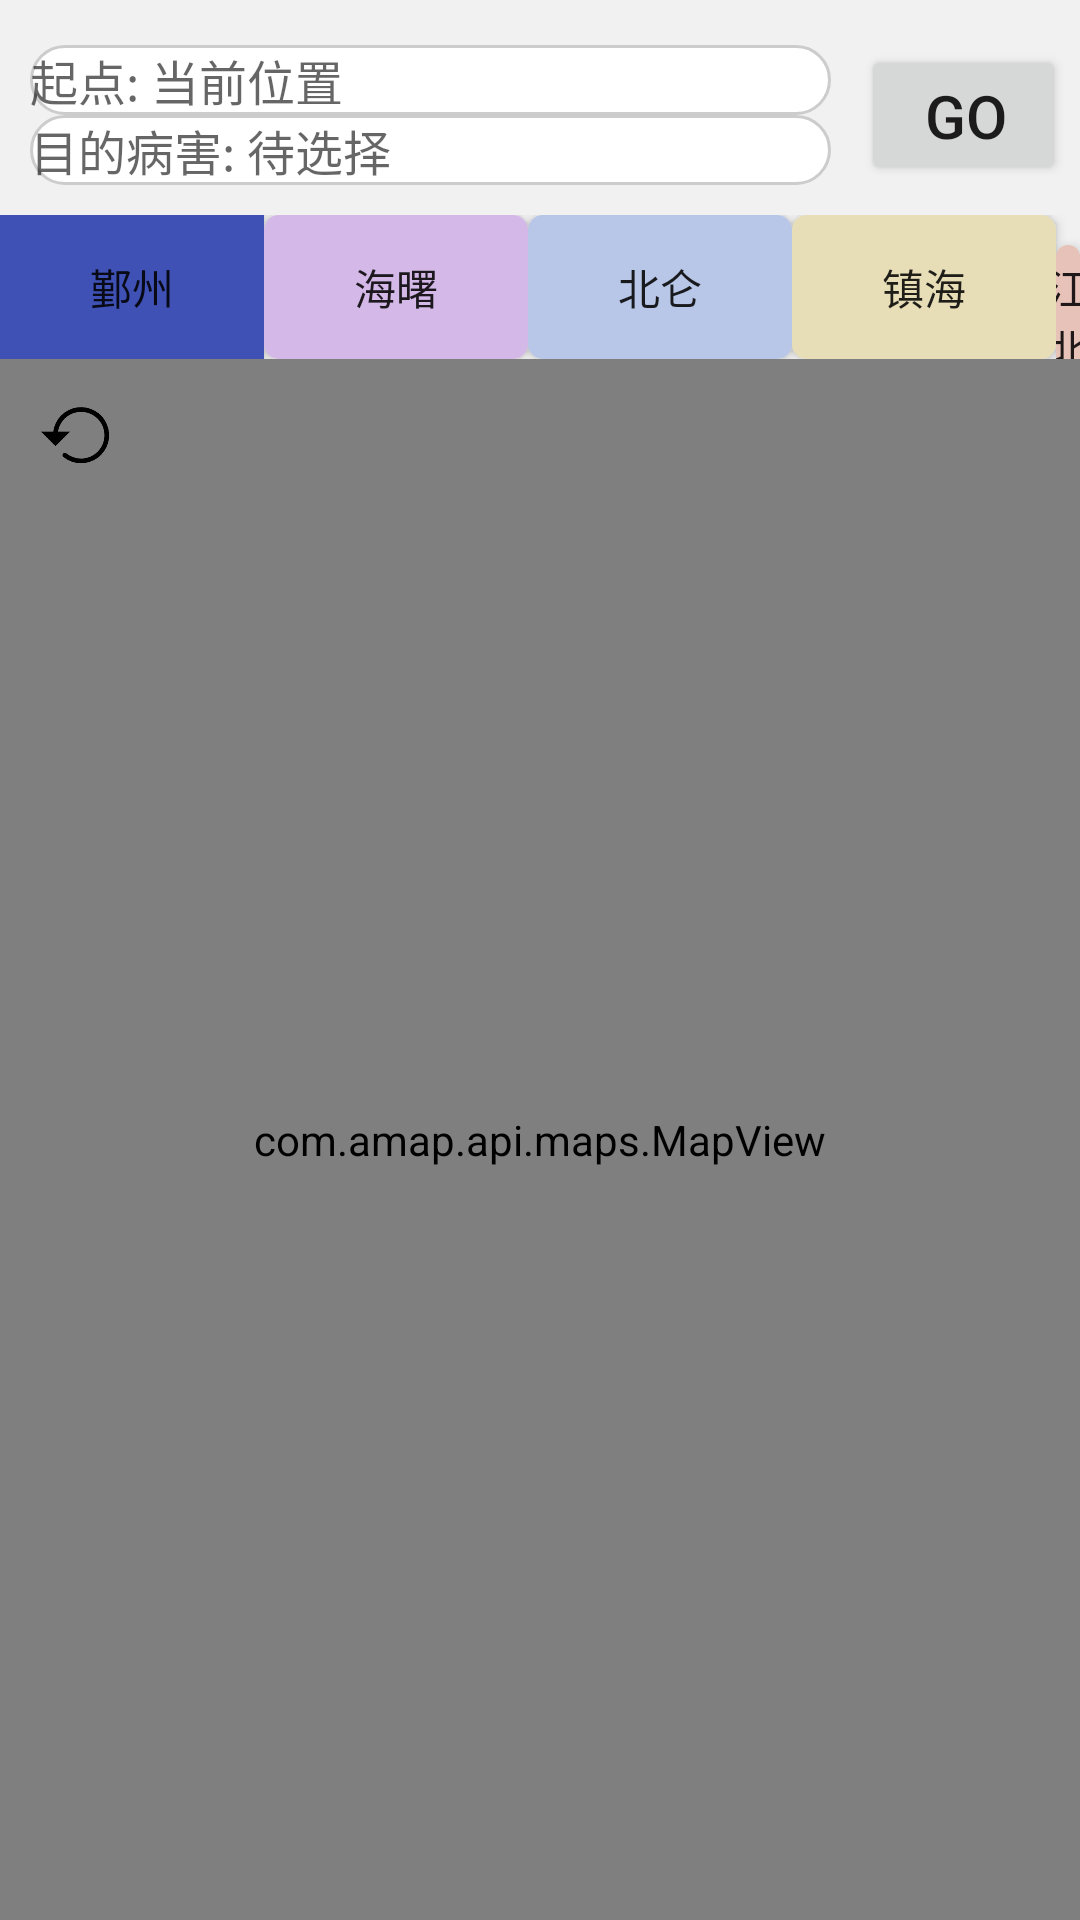

Where icons sit on this 1080 × 1920 app screen, as (x1, y1, x2, y2):
reset: (41, 407, 109, 463)
